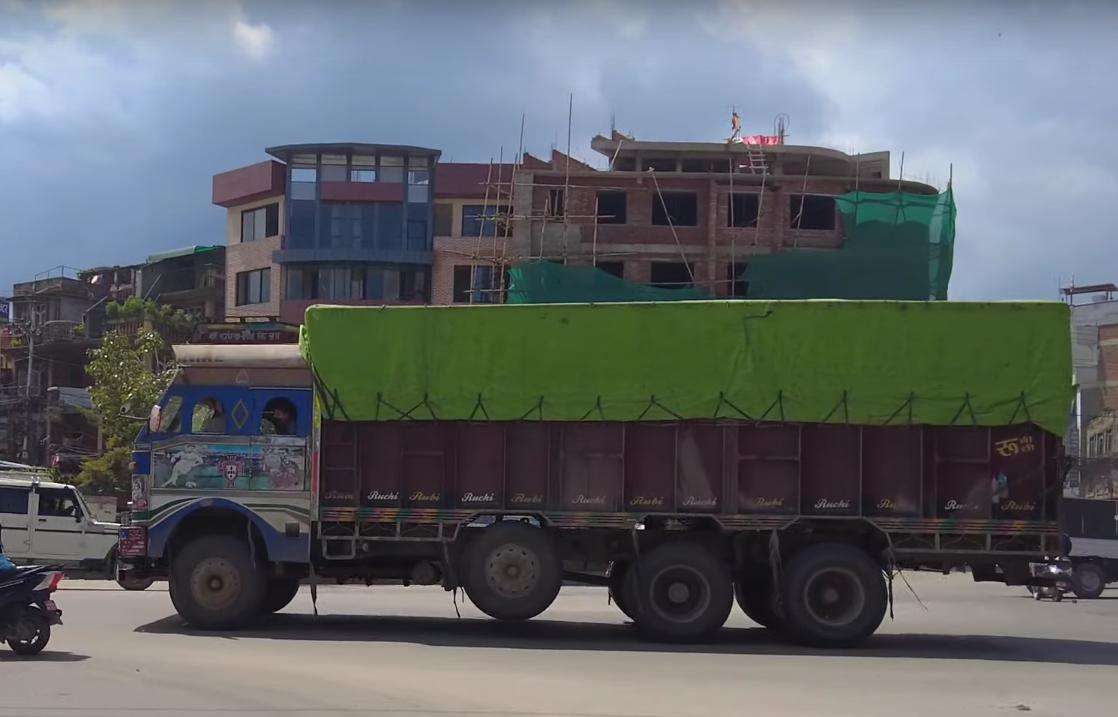truck: (115, 296, 1078, 646)
